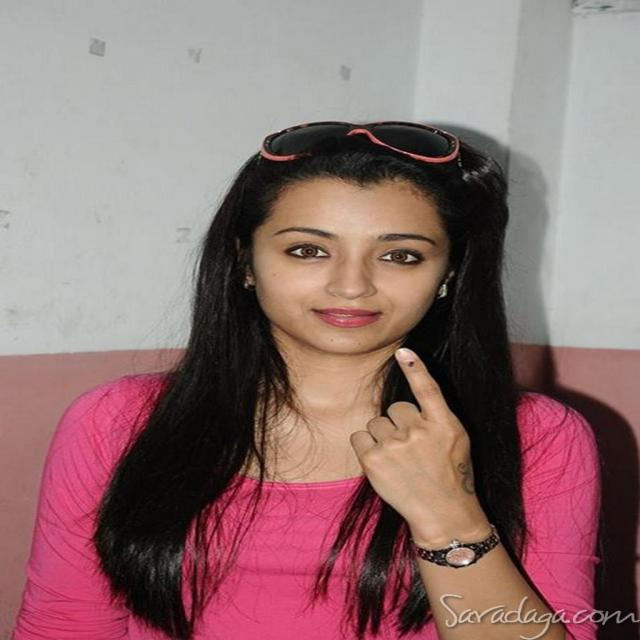Face: (233, 170, 474, 371)
